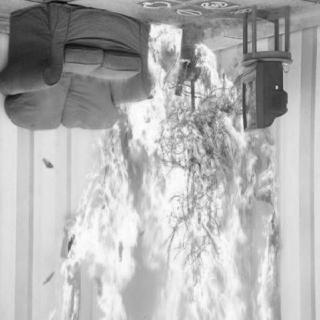Fire: (49, 166, 272, 320), (110, 25, 258, 172)
